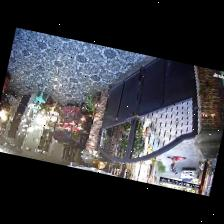person: (171, 156, 176, 173), (168, 155, 184, 160)
